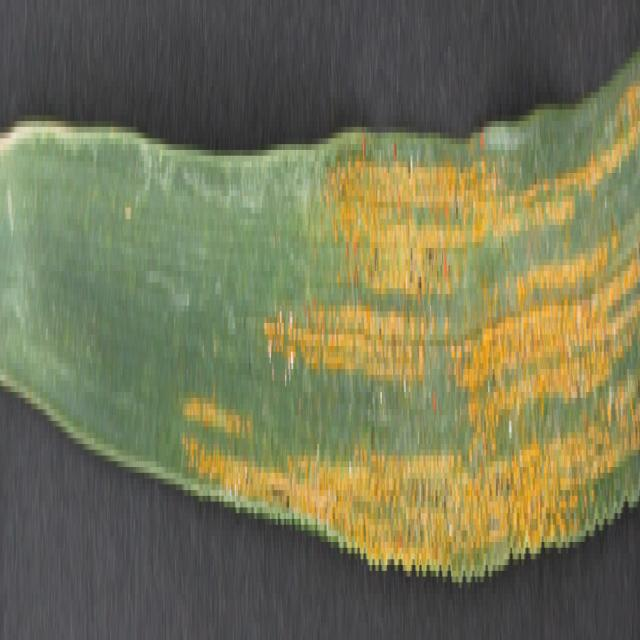leaf rust: (180, 6, 638, 559)
